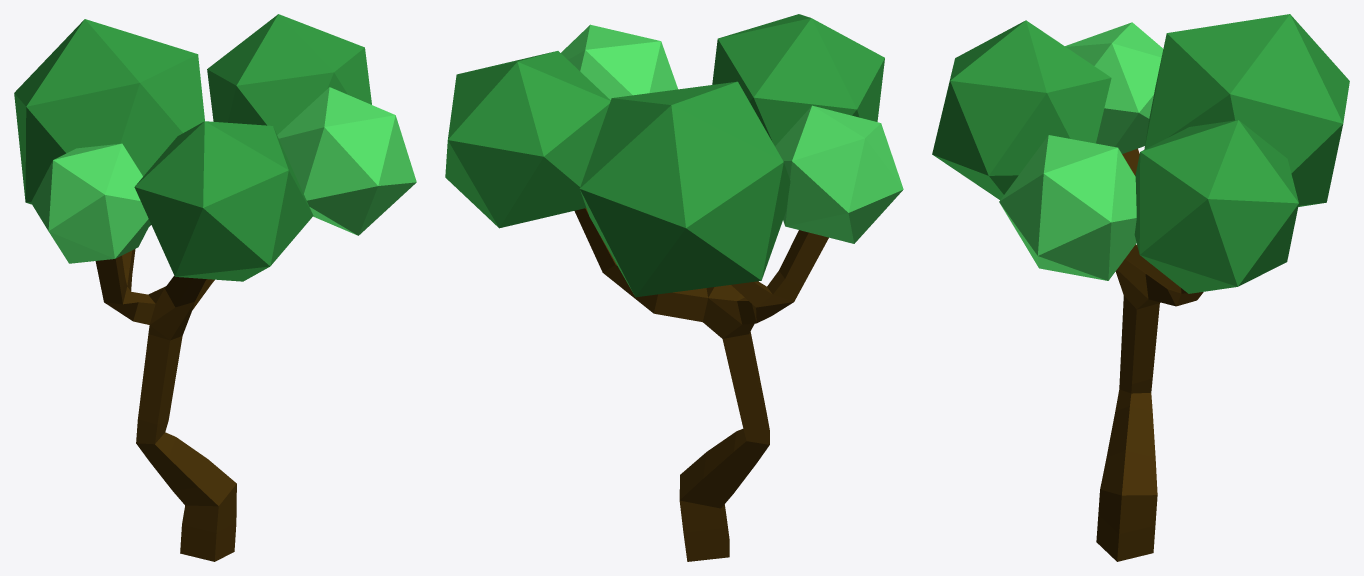
Rendered from Tree.fbx.
3 views of the same model, side by side, from view 1: azimuth 30°, elevation 25°; view 2: azimuth 150°, elevation 25°; view 3: azimuth 270°, elevation 25° (orthographic). The views are drawn at different scales.
Visible parts, largest first — view 1: Tree; view 2: Tree; view 3: Tree.
Part boxes in pixels (left/top/right/bottom): Tree: left=14, top=14, right=416, bottom=561; Tree: left=445, top=14, right=903, bottom=561; Tree: left=932, top=14, right=1349, bottom=561.
Size of the model in its own units: 243 by 308 by 227.
